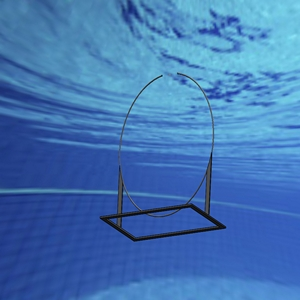circle: (98, 68, 228, 241)
